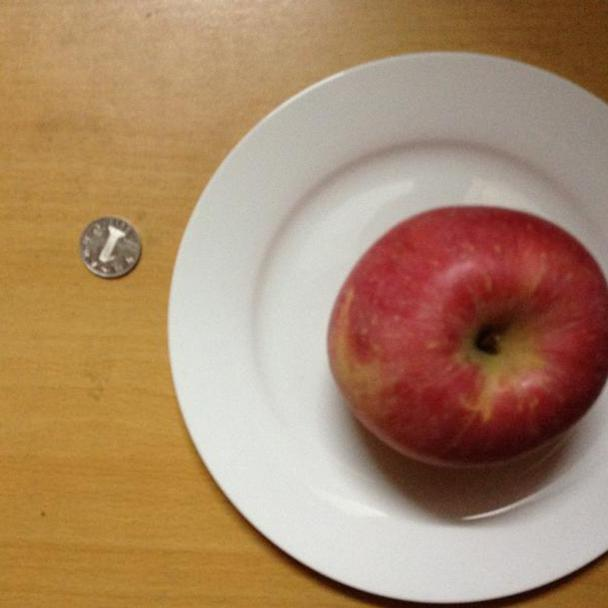apple: (328, 205, 608, 472)
